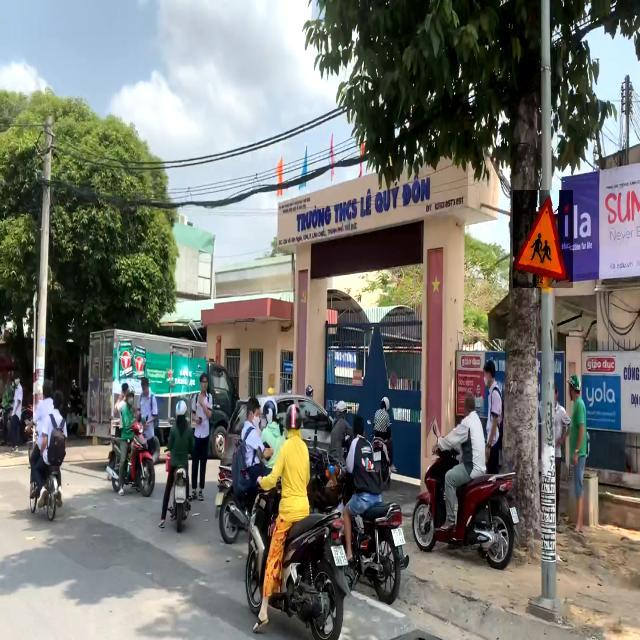W-225: (514, 190, 574, 288)
